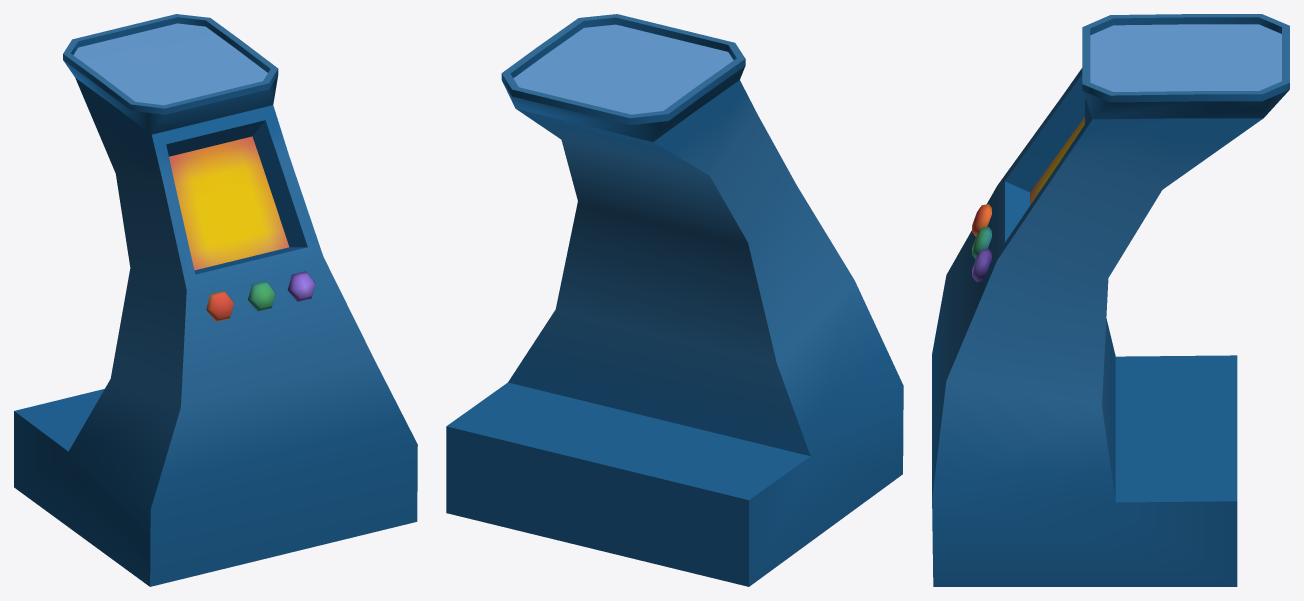
Rendered from ControlePanel.fbx.
The picture shows the model from 3 angles, left to right: view 1: azimuth 30°, elevation 25°; view 2: azimuth 150°, elevation 25°; view 3: azimuth 270°, elevation 25°; orthographic projection. The views are drawn at different scales.
Parts seen in each view (by area): view 1: ControlPanel; view 2: ControlPanel; view 3: ControlPanel.
Boxes of the visible parts, x1,y1,x2,y2 form: ControlPanel: [14, 14, 417, 586]; ControlPanel: [446, 14, 903, 586]; ControlPanel: [932, 14, 1289, 586].
Bounding box in the file's own units: 1.46 × 2.15 × 1.51.
